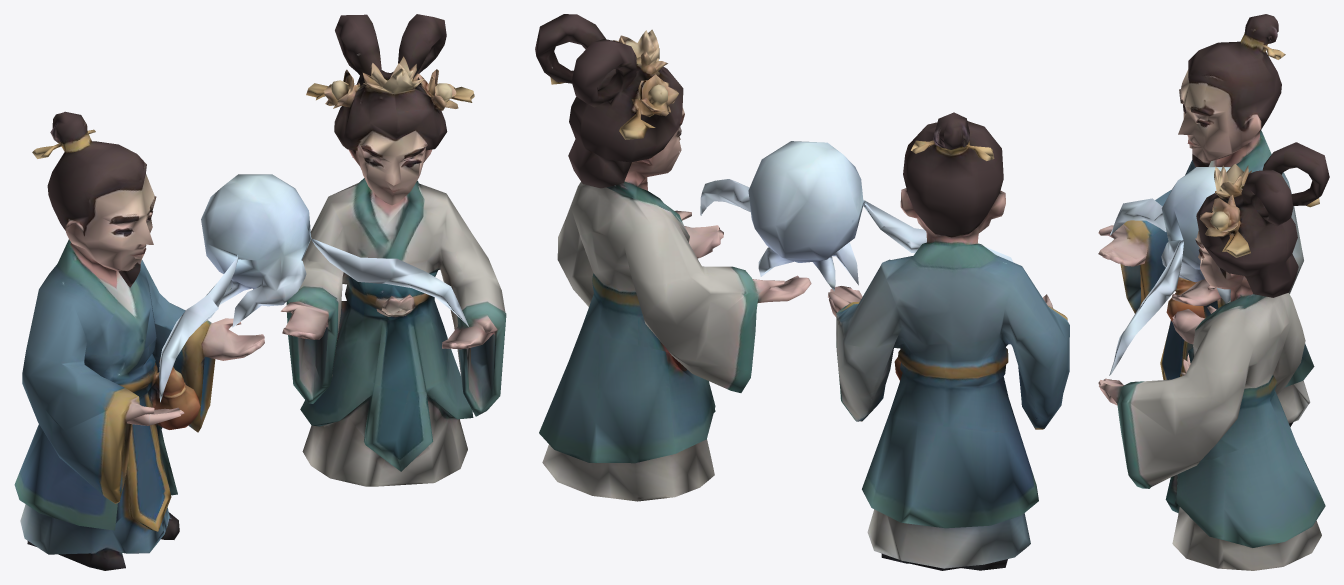
File: ss_yuedehe.glb
The picture shows the model from 3 angles, left to right: view 1: azimuth 30°, elevation 25°; view 2: azimuth 150°, elevation 25°; view 3: azimuth 270°, elevation 25°; orthographic projection. The views are drawn at different scales.
Parts seen in each view (by area): view 1: tripo_node_3d6b5d61-1e07-4e24-bff0-e14ad22fb183; view 2: tripo_node_3d6b5d61-1e07-4e24-bff0-e14ad22fb183; view 3: tripo_node_3d6b5d61-1e07-4e24-bff0-e14ad22fb183.
Boxes of the visible parts, x1,y1,x2,y2 form: tripo_node_3d6b5d61-1e07-4e24-bff0-e14ad22fb183: (14,14,506,570); tripo_node_3d6b5d61-1e07-4e24-bff0-e14ad22fb183: (535,14,1069,570); tripo_node_3d6b5d61-1e07-4e24-bff0-e14ad22fb183: (1098,14,1329,570).
Bounding box in the file's own units: 1 × 0.8749 × 0.4615.
Materials: 1 (1 with a texture image).
